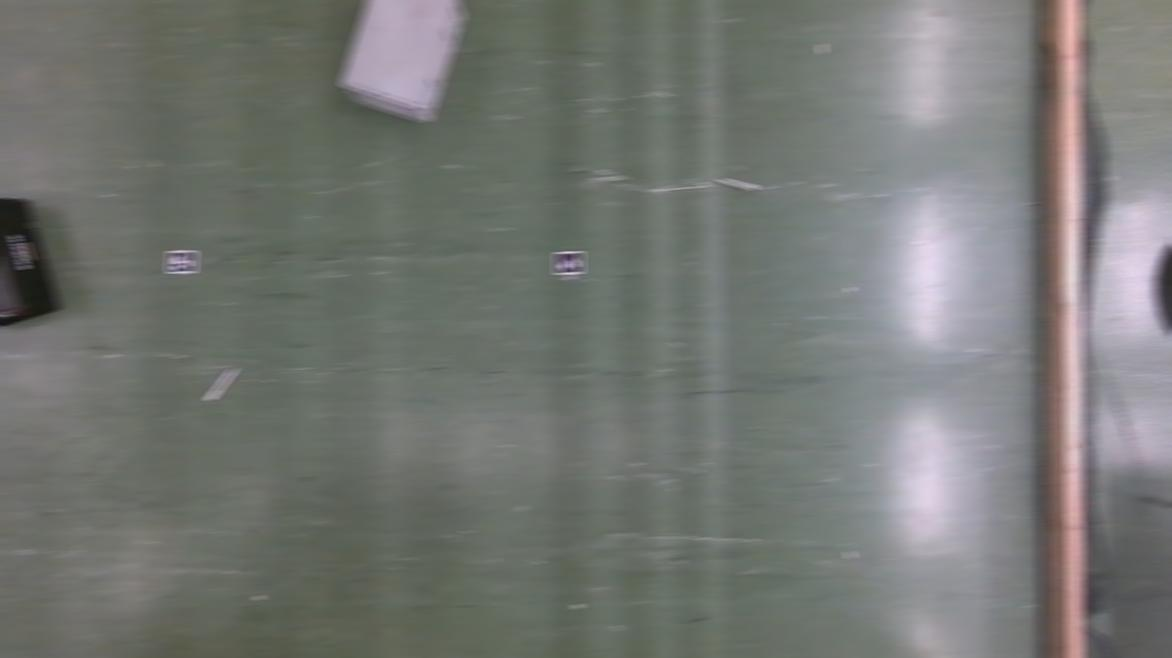probes: (206, 368, 236, 403), (720, 179, 760, 192)
rako: (339, 0, 464, 124), (0, 193, 60, 333)
